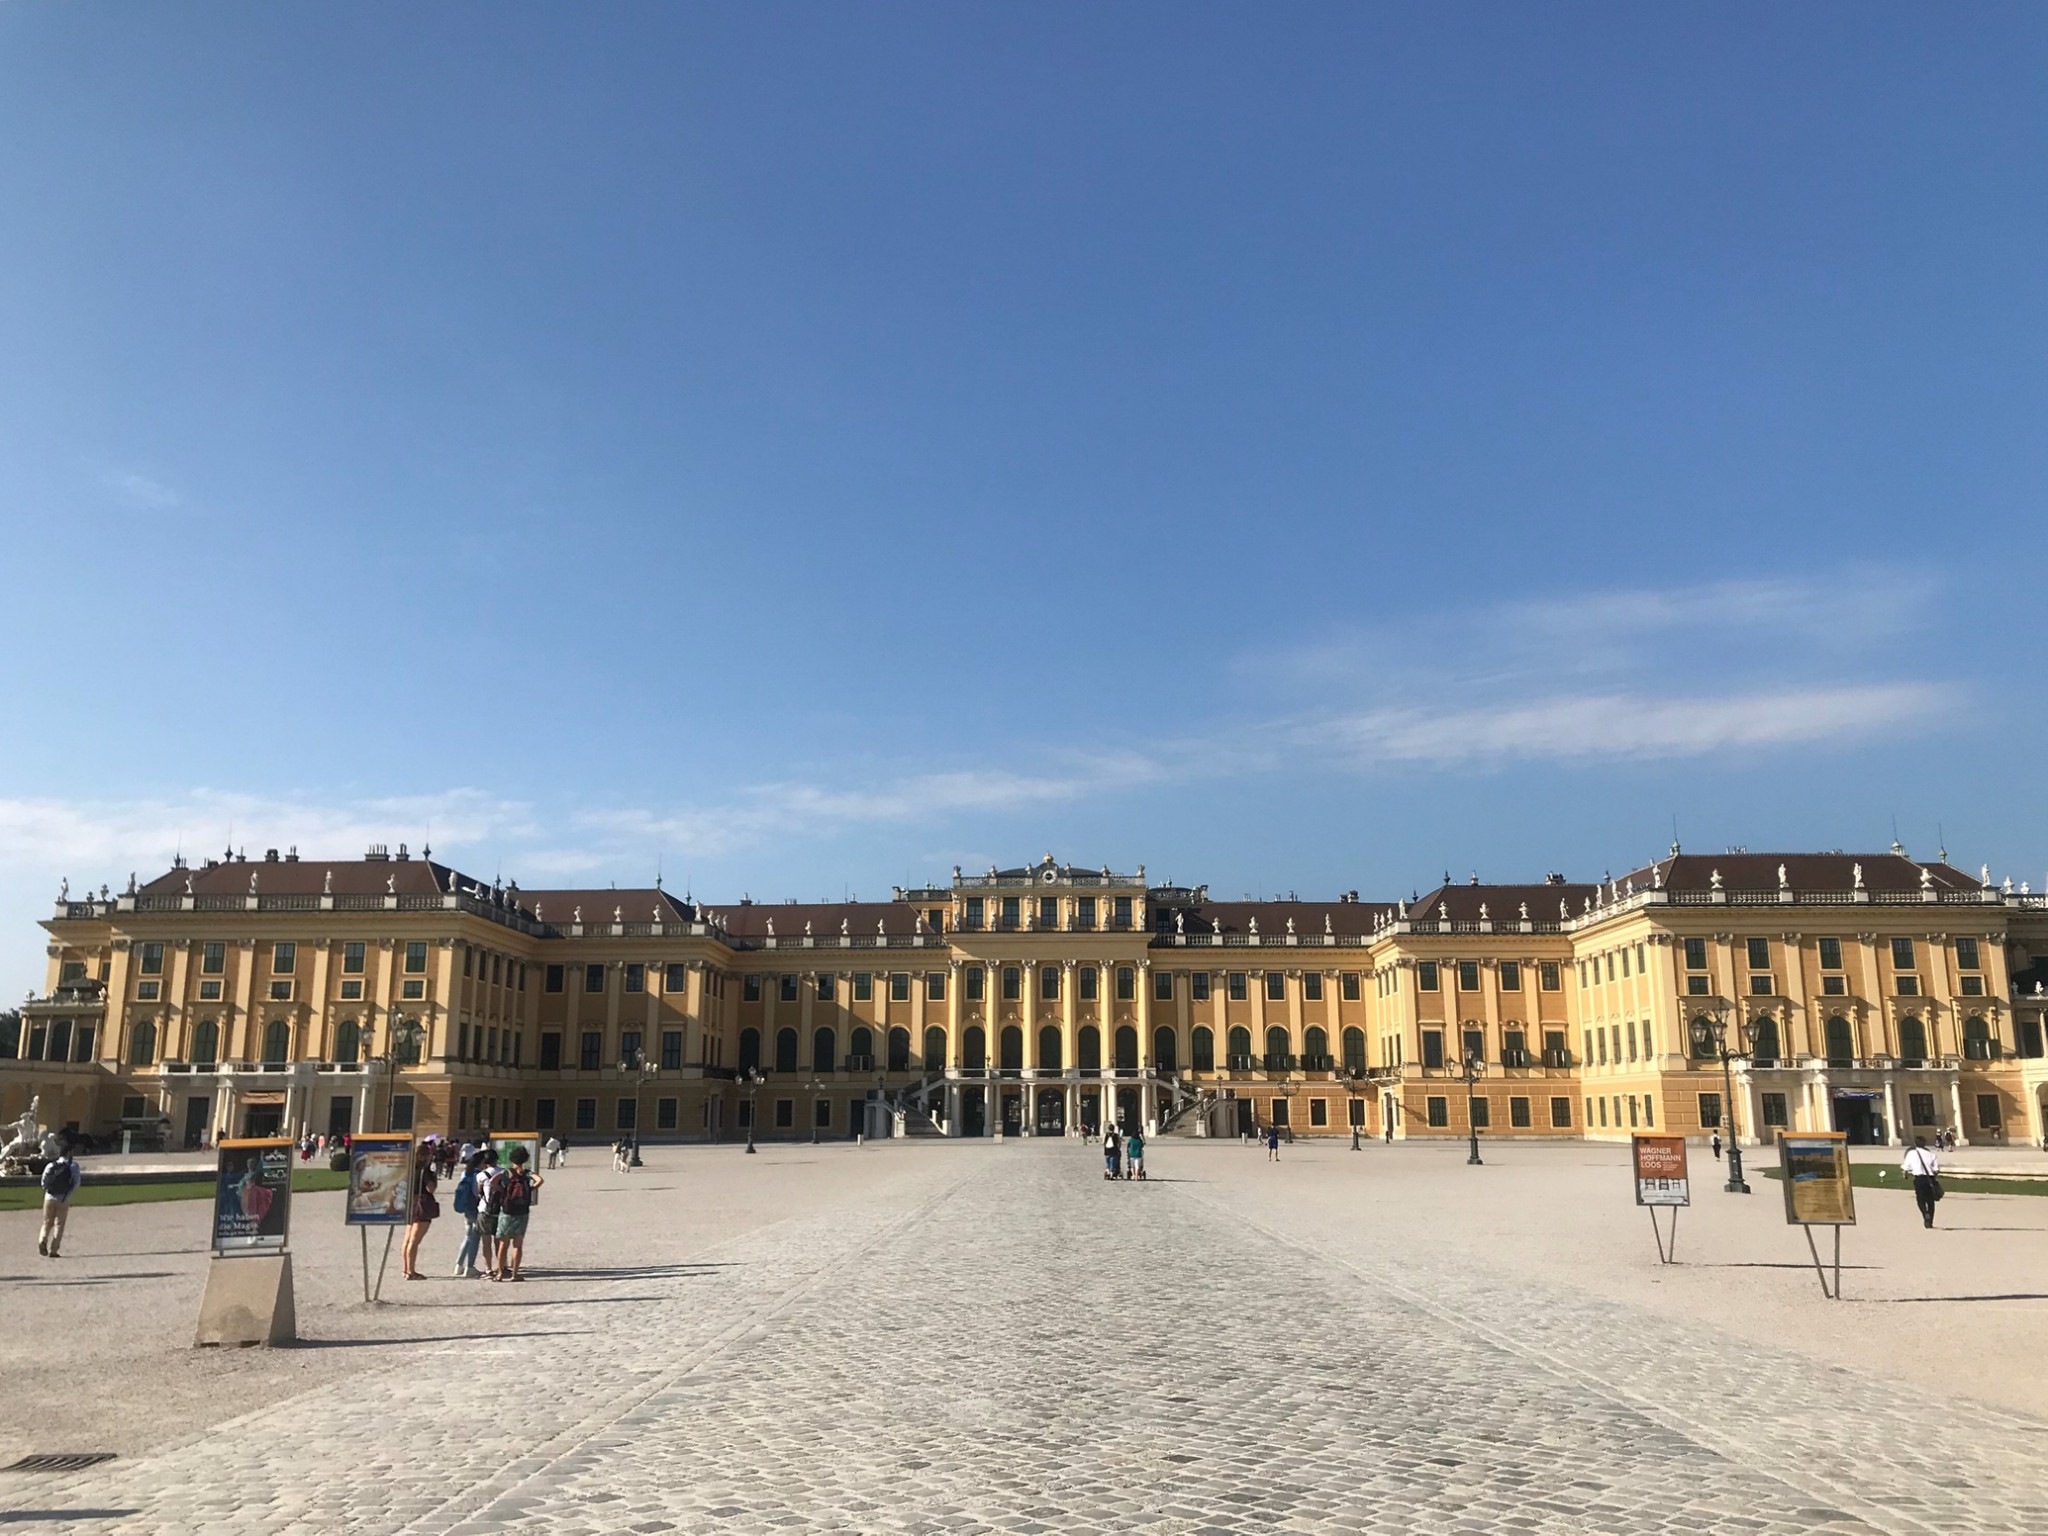people: (502, 1140, 543, 1284), (460, 1152, 496, 1284), (1907, 1134, 1952, 1234), (28, 1149, 66, 1260), (407, 1134, 434, 1287), (1128, 1116, 1157, 1190), (1096, 1116, 1116, 1181)
